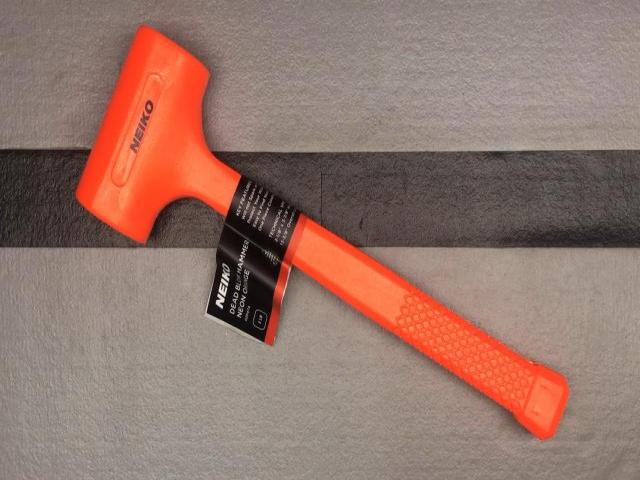hammer: (74, 23, 571, 443)
